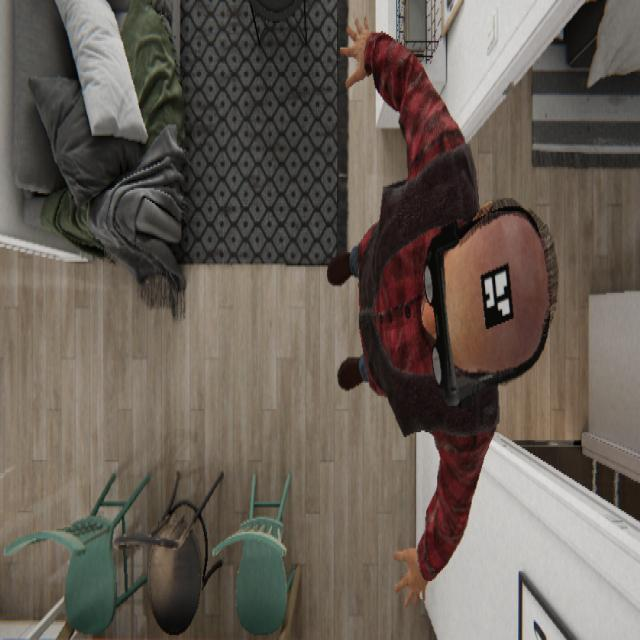AruCO: (479, 259, 514, 329)
Human: (326, 13, 558, 609)
